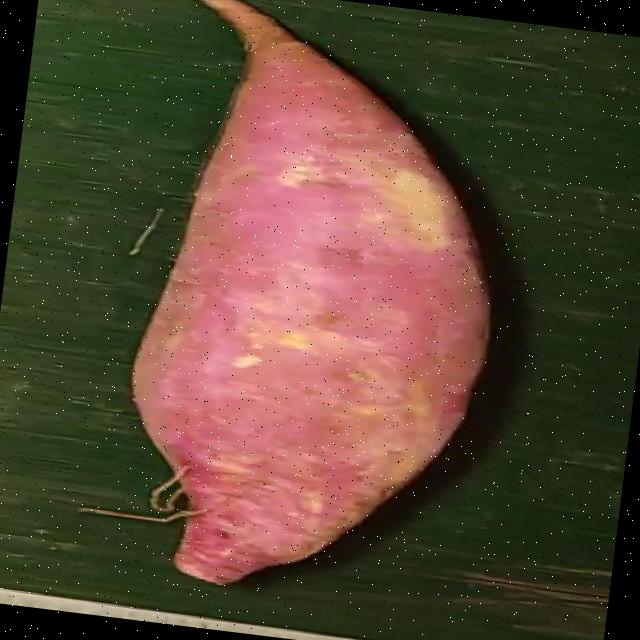Sweet Potato: (127, 0, 488, 586)
